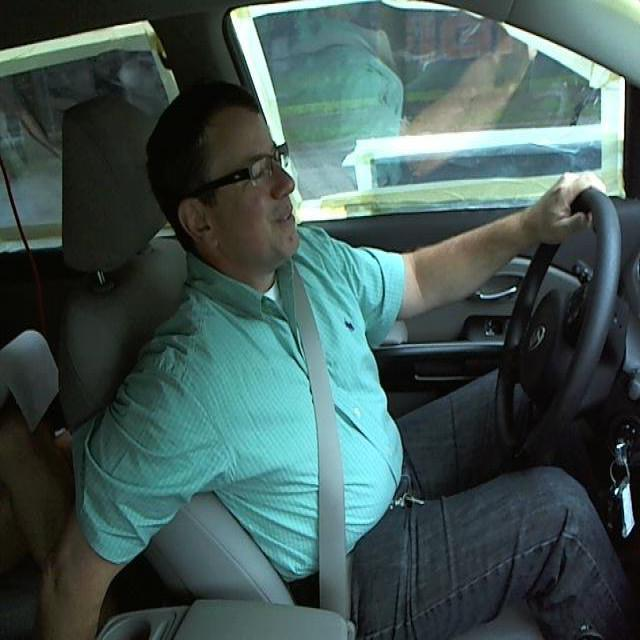seatbelt: (291, 301, 360, 619)
